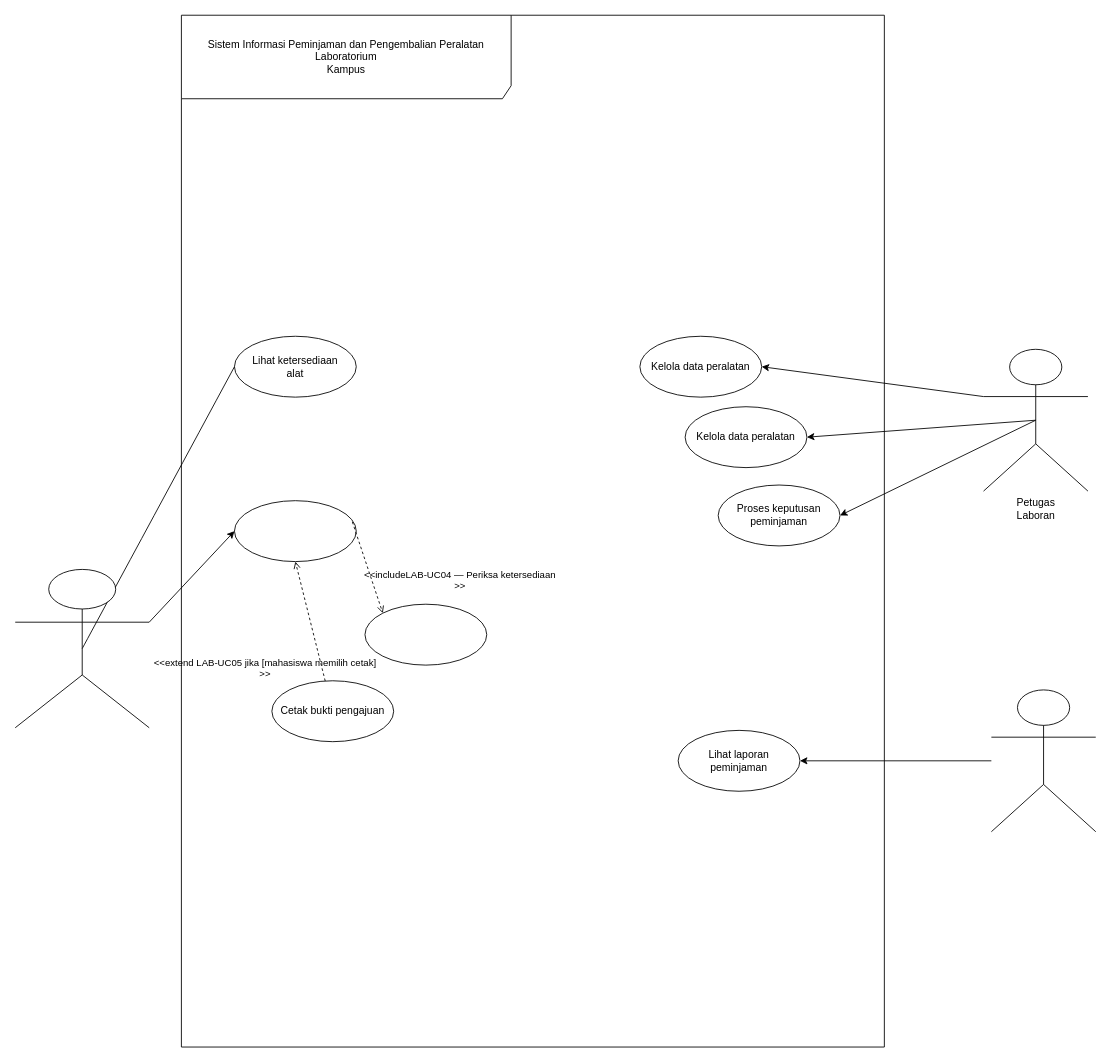
Image size: 1111x1062. Some labels were removed from this diagram. Each missing label, with the centre of its shape:
"Ajukan peminjaman" goes at pixel 295 531.
"Kepala Laboran" goes at pixel 1043 760.
"Mahasiswa" goes at pixel 81 648.
"Periksa ketersediaan" goes at pixel 425 634.
